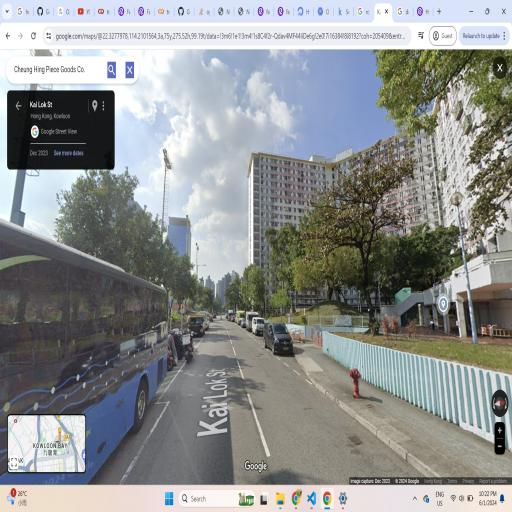Roads: (27, 306, 487, 464)
Trees: (315, 156, 416, 315), (280, 226, 324, 313)
